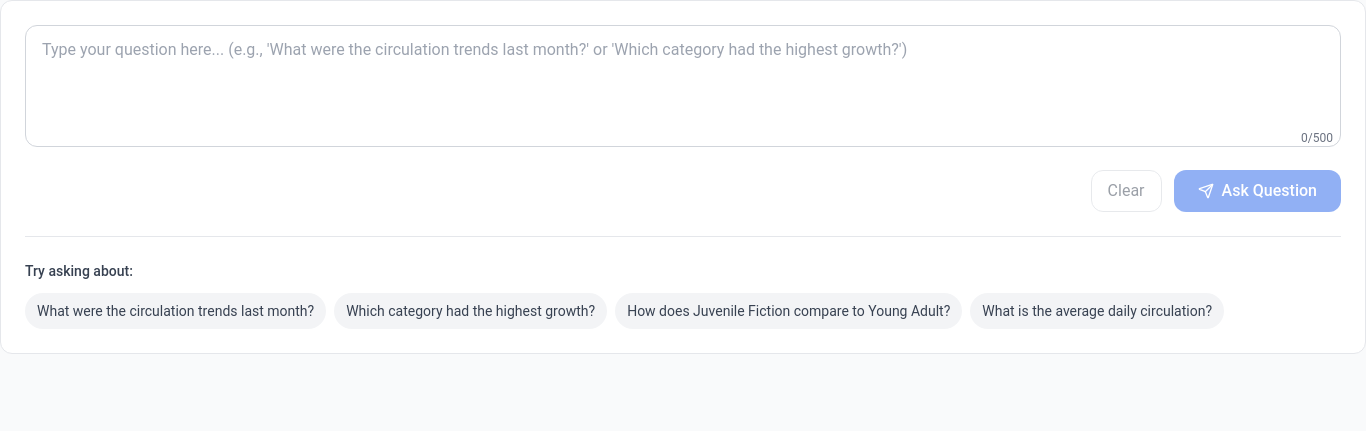
Test: QuestionsSection Component › shows error when question is fewer than 5 characters
Type "Hi" into the text box at (683, 86), box top-left (25, 25), bottom-right (1341, 147)
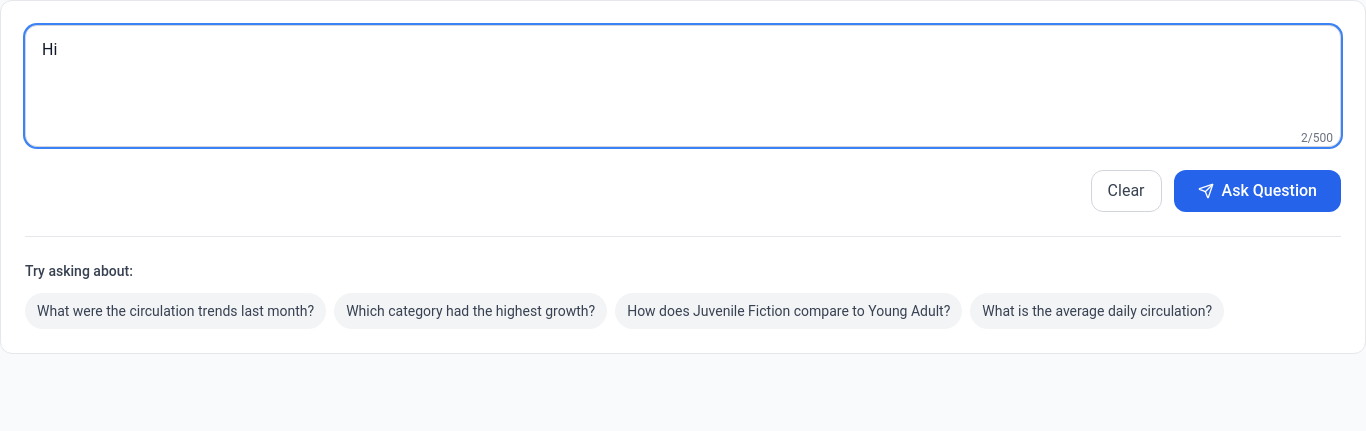
Click the button "Ask Question" at (1257, 191), box top-left (1174, 170), bottom-right (1341, 212)
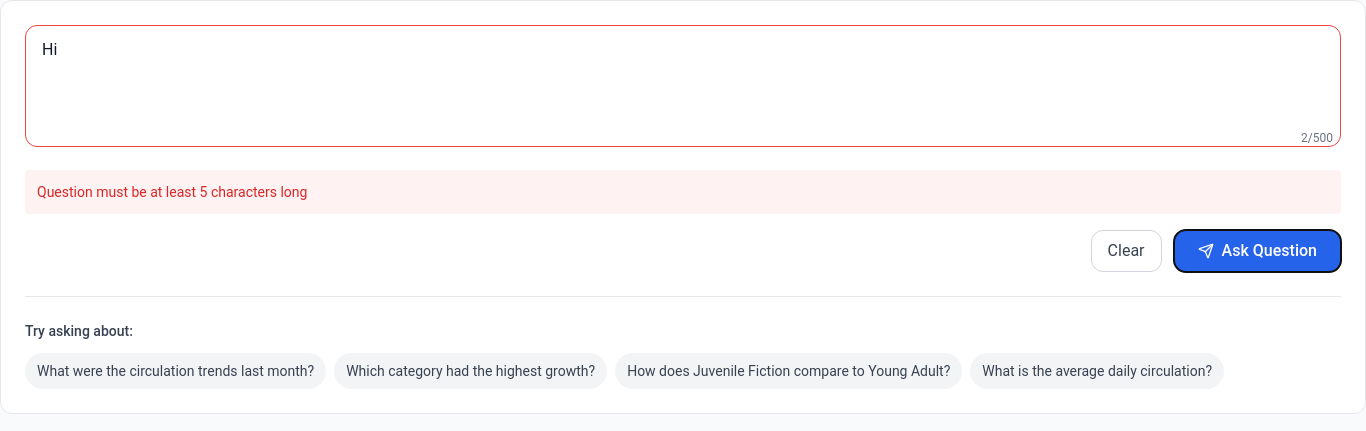
Now the text "Question must be at least 5 characters long" is shown, box top-left (25, 170), bottom-right (1341, 214)
